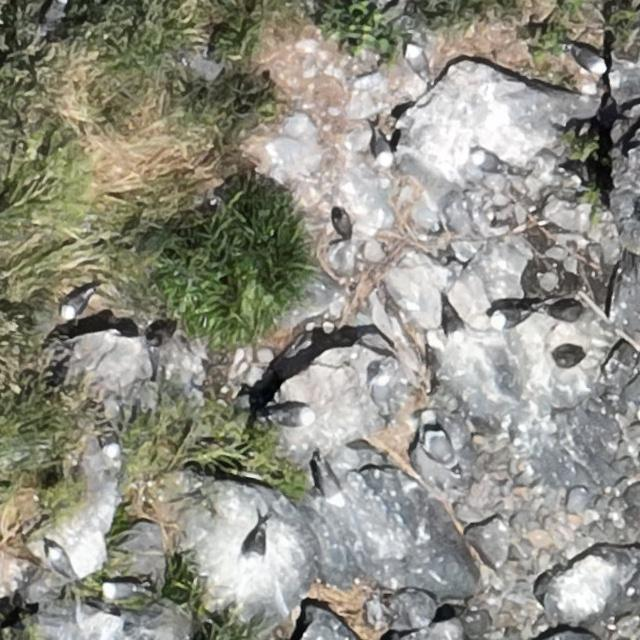umineko: (317, 458, 346, 510), (96, 416, 122, 461), (370, 372, 395, 418), (266, 404, 318, 426), (442, 299, 464, 346), (372, 128, 394, 167), (571, 48, 605, 73), (427, 433, 452, 463), (44, 1, 66, 32), (62, 291, 87, 318), (408, 46, 427, 76), (494, 308, 526, 325), (249, 529, 266, 561), (105, 582, 136, 599), (48, 548, 68, 574), (474, 153, 501, 172), (626, 570, 640, 594)
